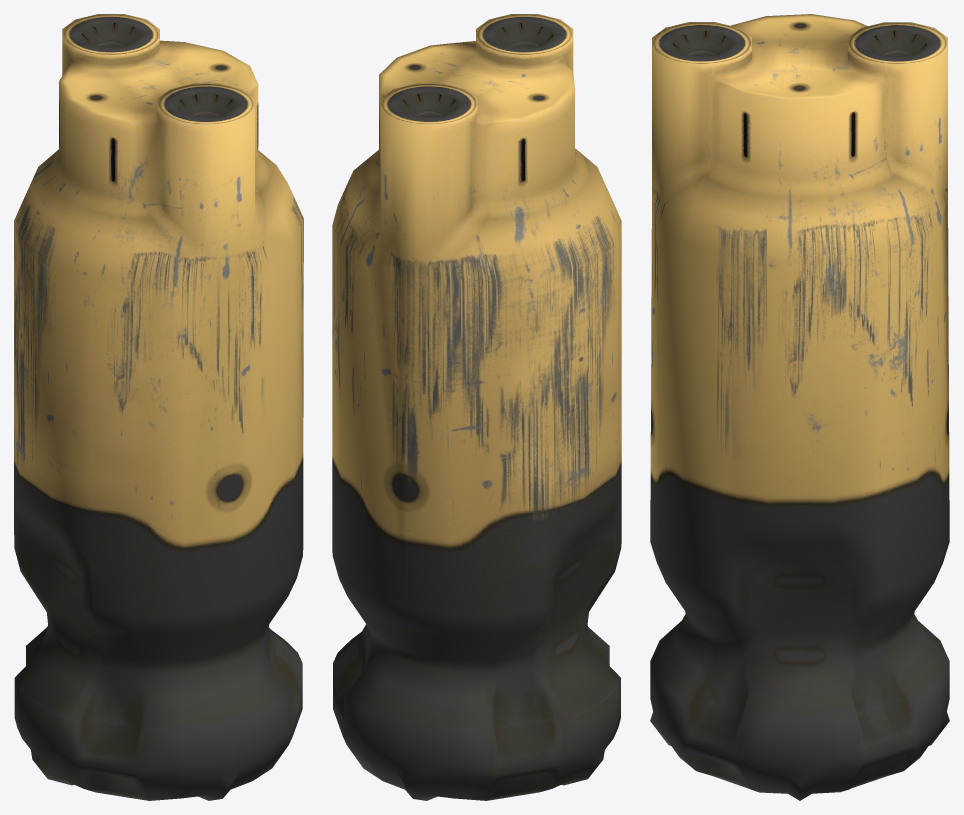
The model's file is FusionCore_FBX.fbx.
3 renders of one model, left to right at view 1: azimuth 30°, elevation 25°; view 2: azimuth 150°, elevation 25°; view 3: azimuth 270°, elevation 25°, orthographic. The views are drawn at different scales.
Visible parts, largest first — view 1: transform1; view 2: transform1; view 3: transform1.
Part boxes in pixels (bbox=[...]): transform1: bbox=[14, 14, 303, 800]; transform1: bbox=[332, 14, 621, 800]; transform1: bbox=[650, 14, 949, 800].
Bounding box in the file's own units: 5.42 × 14.28 × 5.42.
